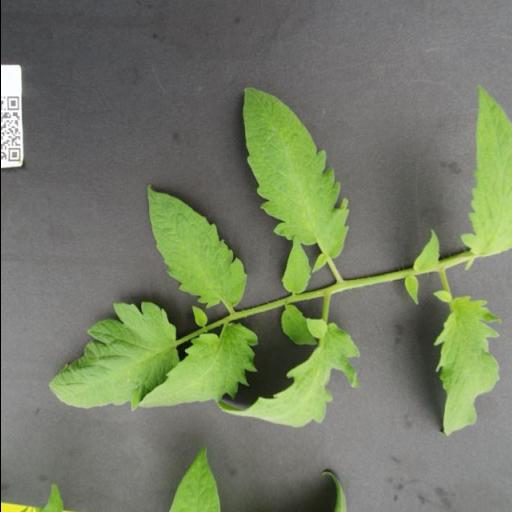Healthy: (241, 85, 349, 272), (218, 318, 360, 428), (48, 303, 178, 411), (146, 186, 250, 306), (428, 290, 504, 436), (136, 320, 258, 408), (461, 84, 512, 258)
